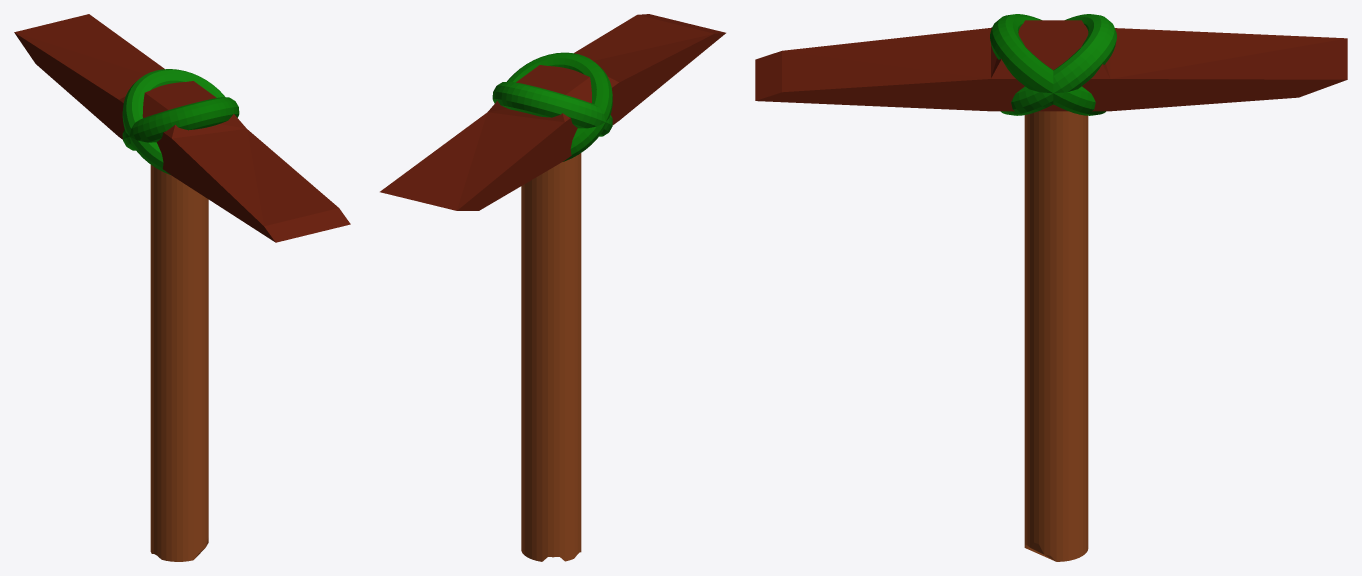
The model's file is 01_WoodenPickaxe.obj.
3 renders of one model, left to right at view 1: azimuth 30°, elevation 25°; view 2: azimuth 150°, elevation 25°; view 3: azimuth 270°, elevation 25°, orthographic. The views are drawn at different scales.
Visible parts, largest first — view 1: Head_Cube.001; view 2: Head_Cube.001; view 3: Head_Cube.001.
Boxes of the visible parts, bbox=[...] form: Head_Cube.001: bbox=[14, 14, 350, 561]; Head_Cube.001: bbox=[380, 14, 725, 561]; Head_Cube.001: bbox=[755, 14, 1347, 561].
Bounding box in the file's own units: 0.8015 × 3.46 × 3.54.
